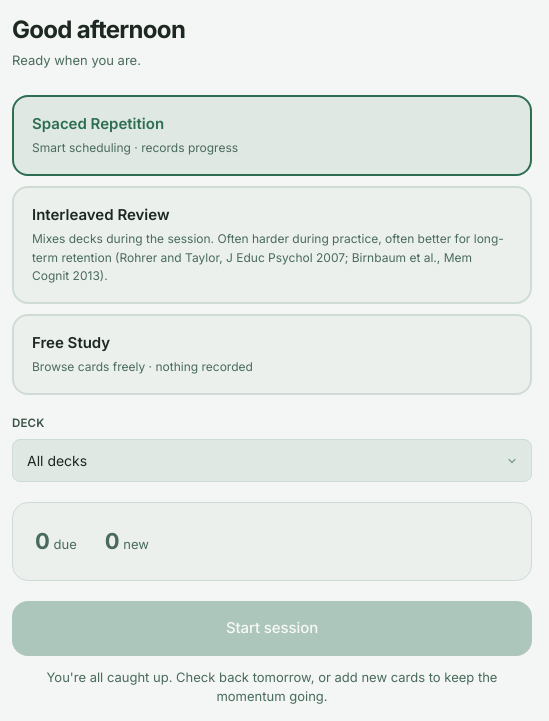
it: StudySelectView — mode selection › clicking Free Study mode shows free card count
Step 1. Click the text "Free Study" → {"x": 71, "y": 342}, box x1=32 y1=333 x2=110 y2=352
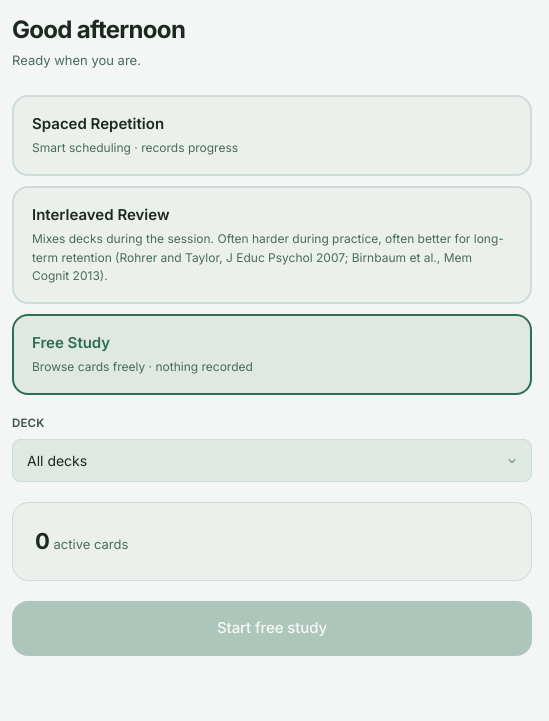
Now the element with test id "srs-stats-row" is gone
